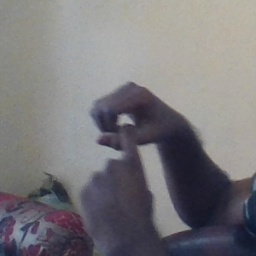Q: (79, 80, 169, 227)
